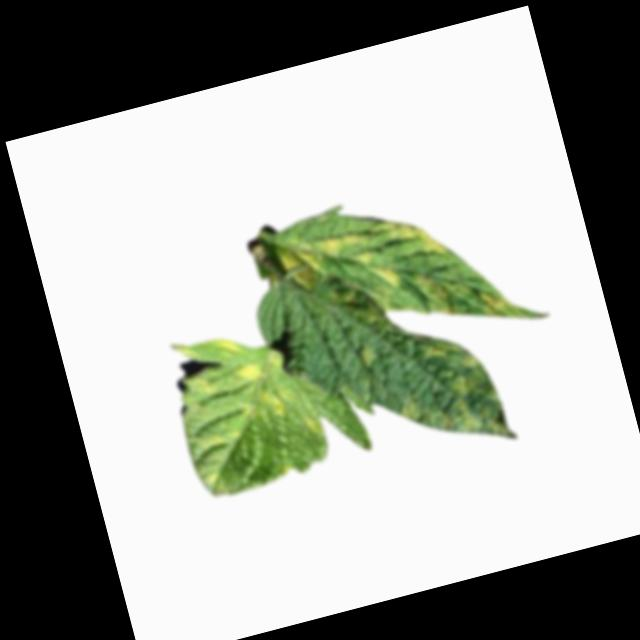Leaf_Mold: (376, 323, 511, 467), (274, 224, 369, 290), (227, 352, 299, 433), (387, 210, 450, 269), (413, 267, 455, 320), (474, 282, 514, 320), (180, 369, 218, 404), (369, 262, 403, 296), (297, 412, 326, 443), (349, 343, 378, 371)
